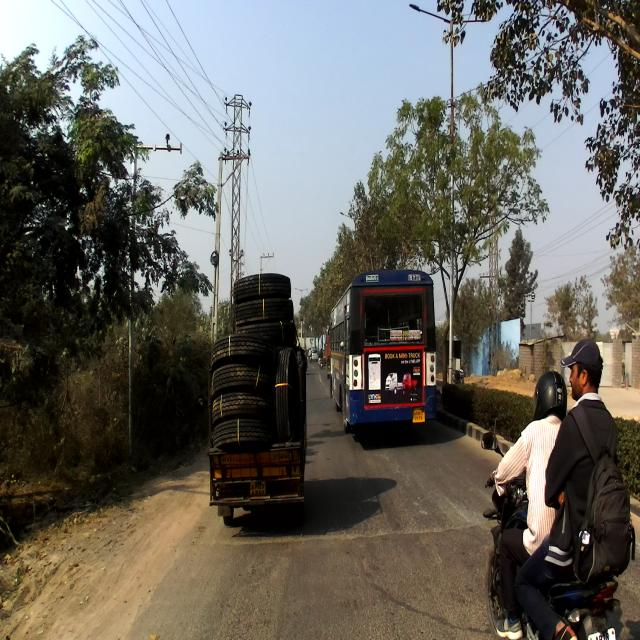bus ahead at: (326, 260, 440, 438)
truck ahead at: (200, 265, 314, 531)
